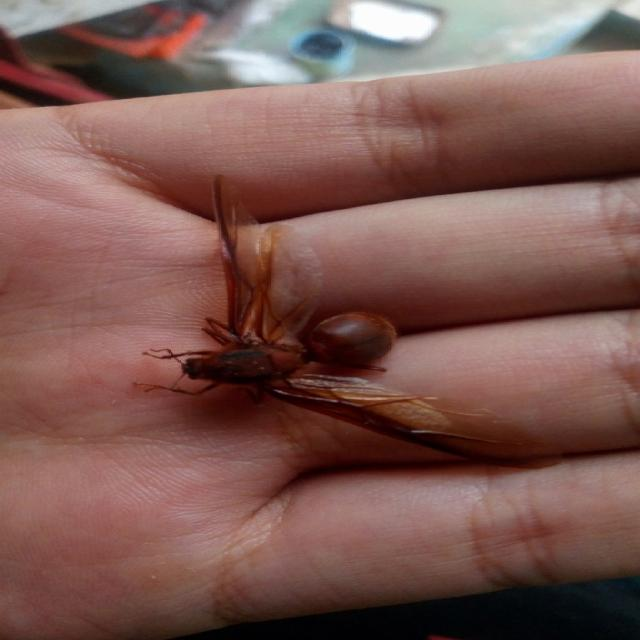Dead-Male-Alate: (131, 173, 569, 470)
